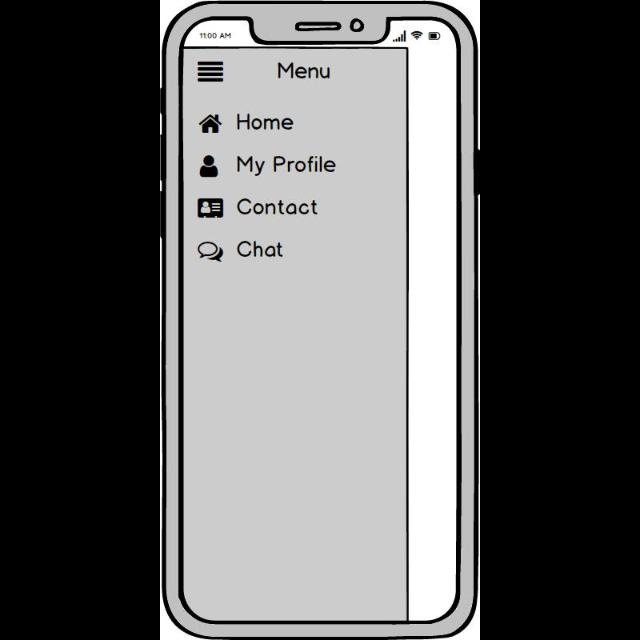icon: (198, 62, 225, 82), (198, 198, 225, 218), (198, 242, 225, 262), (199, 156, 219, 178), (200, 115, 224, 133)
panel: (184, 49, 408, 620)
text: (236, 156, 336, 176), (238, 198, 318, 218), (277, 62, 331, 80), (238, 114, 296, 130), (237, 241, 283, 259)
